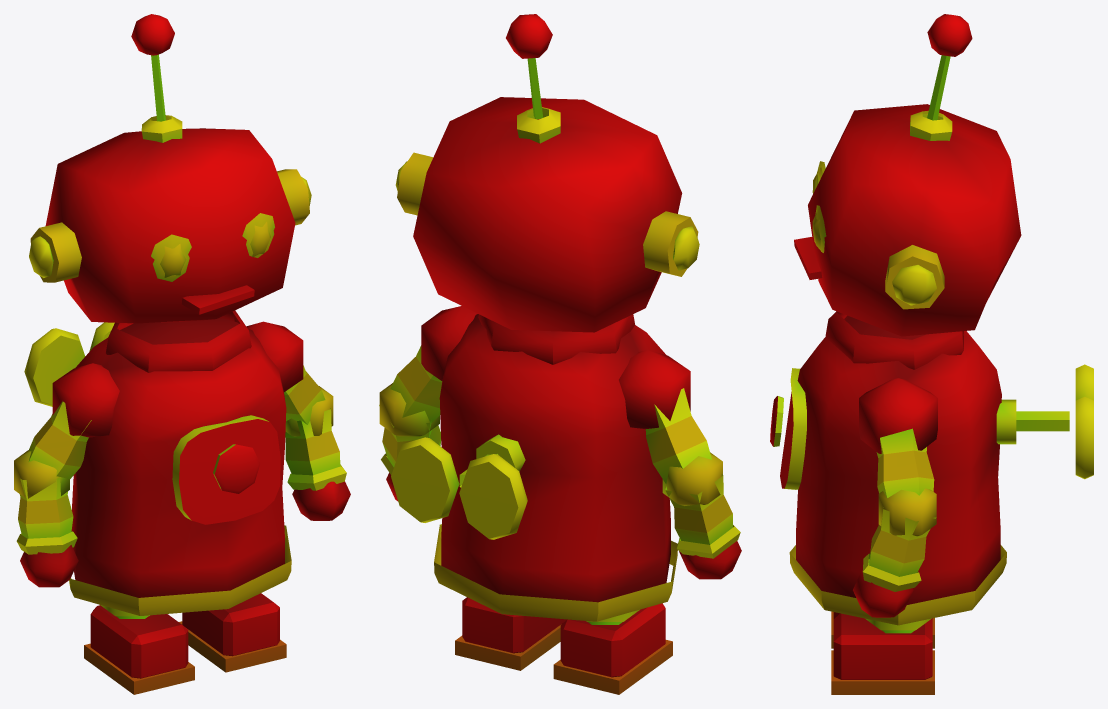
Rendered from RobotWorker_LOD1.glb.
The picture shows the model from 3 angles, left to right: view 1: azimuth 30°, elevation 25°; view 2: azimuth 150°, elevation 25°; view 3: azimuth 270°, elevation 25°; orthographic projection. The views are drawn at different scales.
Parts seen in each view (by area): view 1: RobotWorker_LOD1; view 2: RobotWorker_LOD1; view 3: RobotWorker_LOD1.
Boxes of the visible parts, x1,y1,x2,y2 form: RobotWorker_LOD1: (14, 14, 350, 694); RobotWorker_LOD1: (379, 14, 741, 694); RobotWorker_LOD1: (770, 14, 1093, 694).
Size of the model in its own units: 0.5114 by 0.93 by 0.4256.
